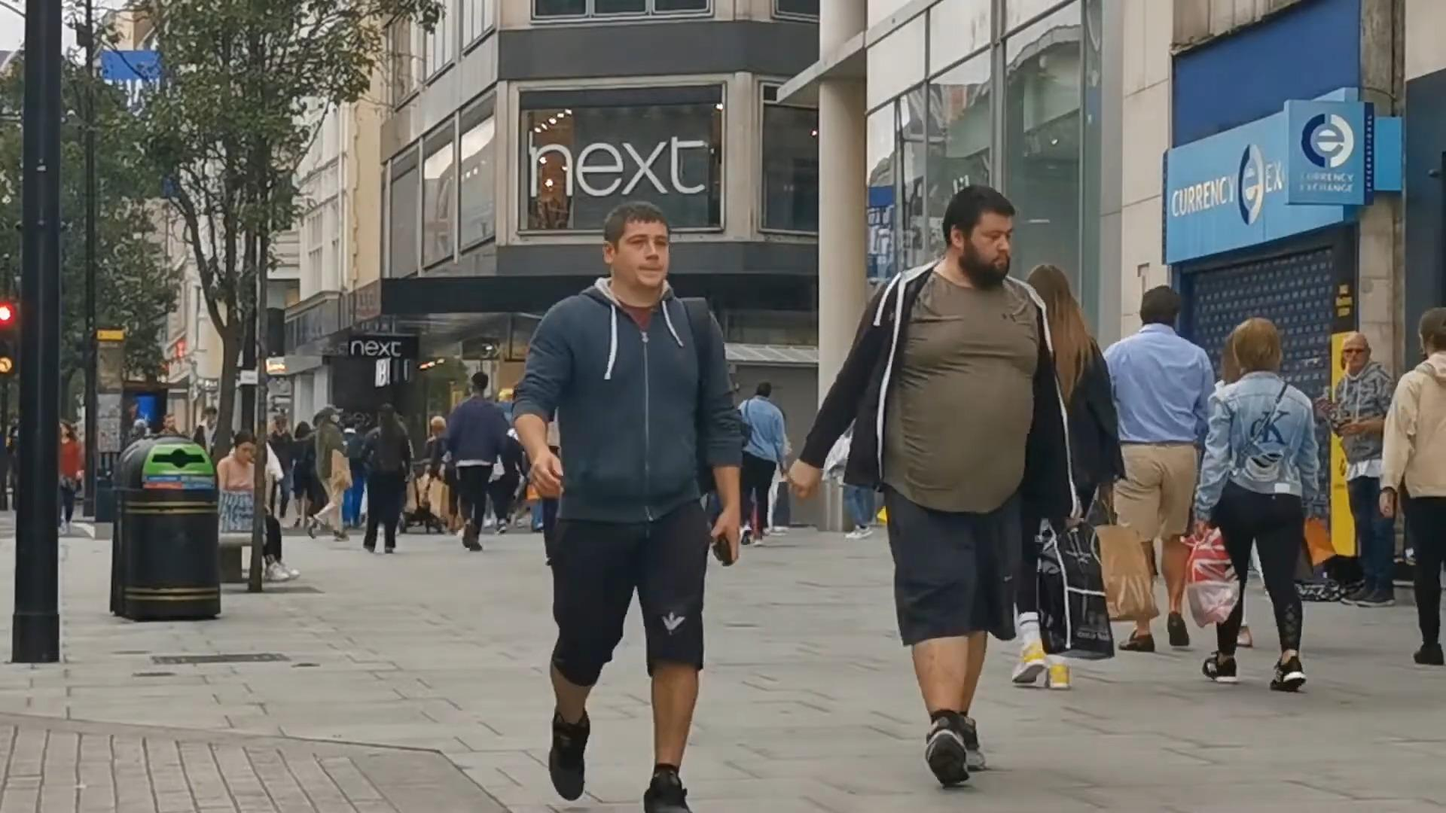no-helmet: (943, 184, 1015, 292), (603, 201, 669, 290), (1025, 263, 1082, 327), (1233, 318, 1284, 378), (1140, 285, 1182, 331), (1418, 307, 1446, 362), (1342, 332, 1371, 370), (234, 428, 257, 465)
